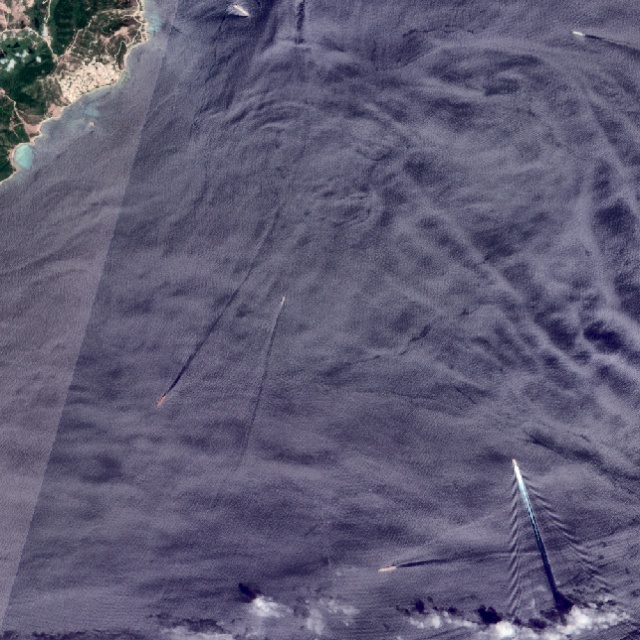wake: (469, 442, 593, 592)
